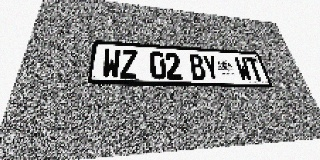0: (149, 51, 167, 79)
2: (164, 52, 182, 80)
B: (188, 54, 207, 80)
T: (245, 57, 265, 82)
W: (102, 48, 121, 78), (233, 57, 253, 81)
Y: (202, 55, 221, 81)
Z: (120, 49, 138, 79)
